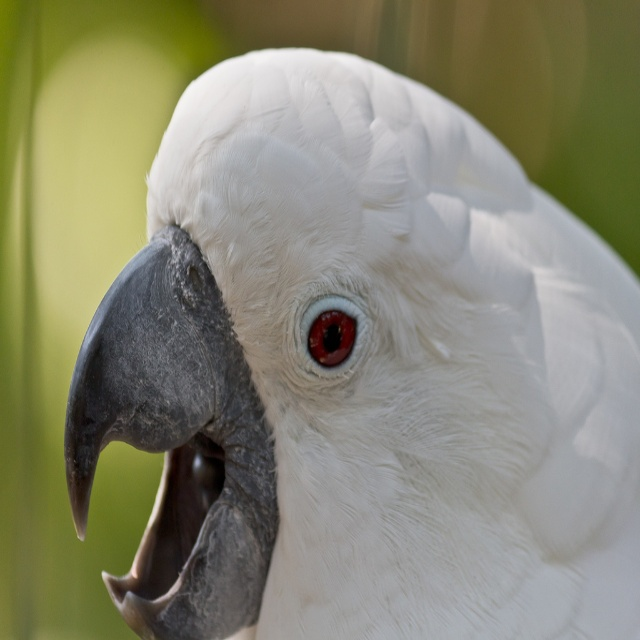Parrot: (63, 48, 640, 640)
